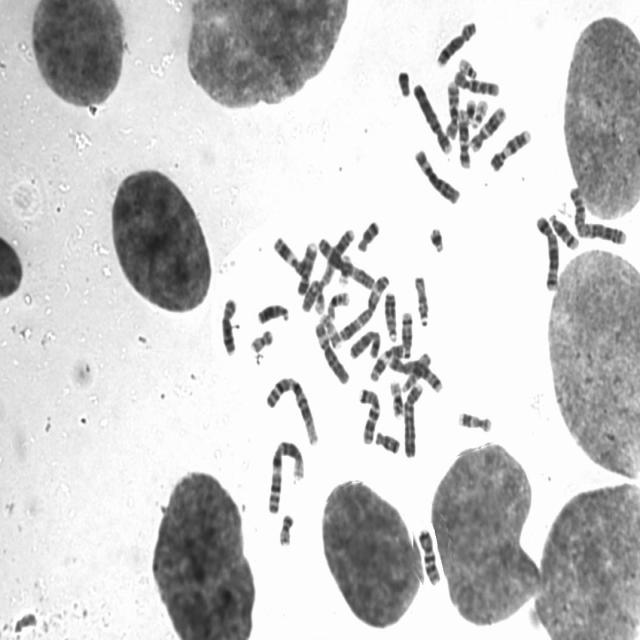A1: (263, 369, 321, 446), (264, 434, 307, 515)
A2: (299, 221, 357, 314), (566, 180, 628, 246)
A3: (335, 268, 391, 342), (314, 230, 376, 290)
B4: (410, 76, 454, 155), (401, 378, 426, 459)
B5: (385, 351, 444, 394), (532, 209, 562, 293)
C10: (450, 65, 502, 97), (443, 75, 461, 140)
C11: (270, 230, 310, 277), (368, 338, 408, 382)
C12: (466, 100, 508, 152), (455, 104, 473, 170)
C6: (411, 142, 463, 205), (312, 316, 352, 386)
C7: (356, 382, 384, 446), (415, 524, 442, 586)
C8: (434, 14, 479, 68), (217, 291, 240, 358)
C9: (488, 122, 534, 172), (294, 236, 320, 297)
D13: (254, 296, 292, 326), (382, 286, 399, 342)
D14: (546, 207, 581, 251), (398, 306, 415, 360)
D15: (400, 346, 435, 396), (411, 270, 431, 326)
E16: (324, 286, 351, 320), (388, 375, 408, 420)
E17: (317, 309, 343, 349), (455, 406, 494, 432)
E18: (355, 214, 382, 252), (372, 425, 403, 455)
F19: (310, 279, 327, 317), (339, 252, 354, 293)
F20: (247, 323, 276, 354), (275, 508, 296, 547)
G21: (426, 220, 447, 253), (464, 94, 476, 125)
G22: (468, 94, 490, 128), (456, 52, 480, 80)
X: (346, 325, 383, 360)
Y: (394, 64, 413, 98)
